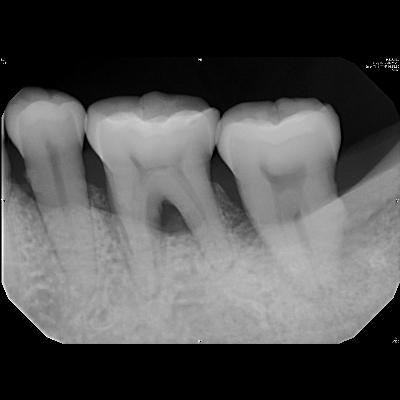tooth: (4, 84, 98, 296)
